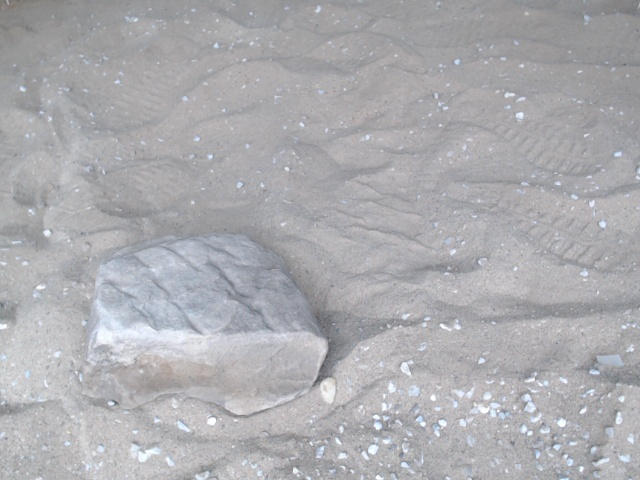rock: (69, 221, 338, 430)
